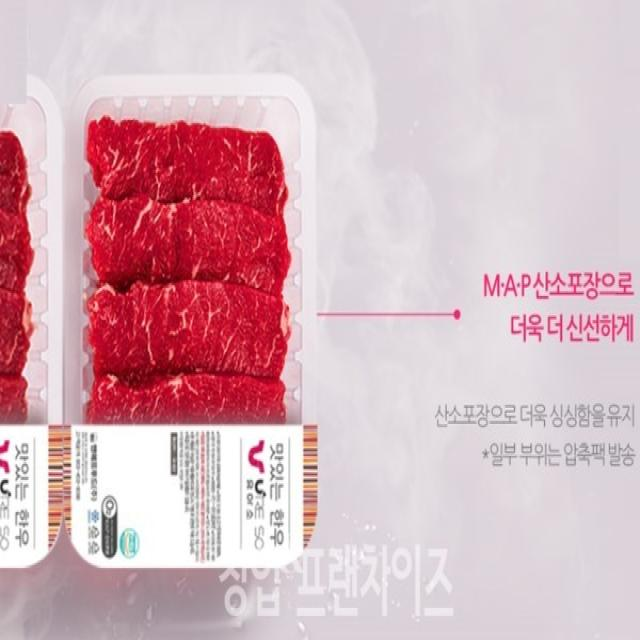pork: (64, 80, 320, 578)
